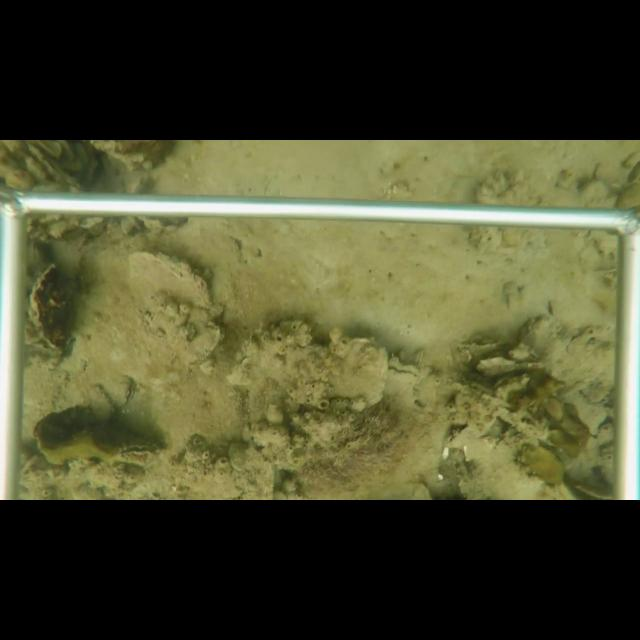Oyster-Closed: (128, 246, 219, 314), (141, 300, 223, 370), (28, 261, 67, 356), (28, 142, 83, 191), (413, 351, 424, 370)
Oyster-Open: (115, 438, 161, 471)
